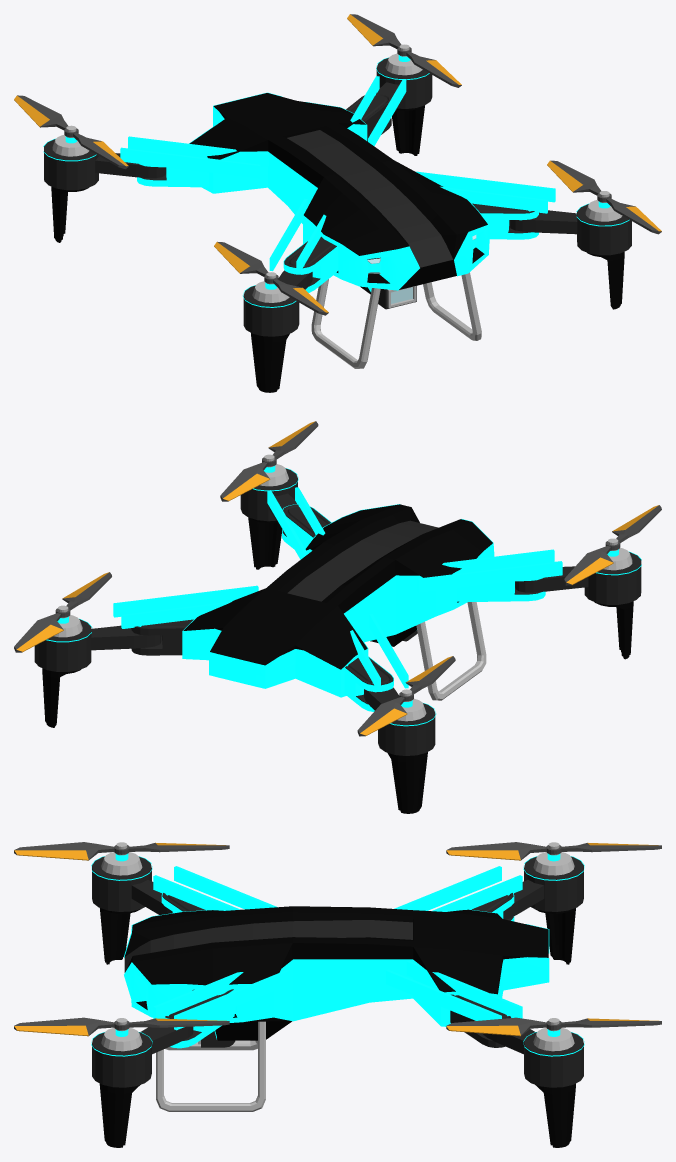
File: drone_surface_band_emissive.glb
3 views of the same model, one above another, from view 1: azimuth 30°, elevation 25°; view 2: azimuth 150°, elevation 25°; view 3: azimuth 270°, elevation 25° (orthographic). The views are drawn at different scales.
Visible parts, largest first — view 1: Body, LED_SURFACE_BAND, LED_ARM_BR_R, LED_ARM_FL_R, Rotor_FL, Rotor_BL, Rotor_BR, Rotor_FR, LED_ARM_BR_L, LED_ARM_FL_L, LED_ARM_FR_L, LED_ARM_BL_L (+1 smaller); view 2: Body, LED_SURFACE_BAND, LED_ARM_FR_L, LED_ARM_BL_L, Rotor_FR, Rotor_BL, Rotor_FL, Rotor_BR, LED_ARM_FR_R, LED_ARM_BL_R, LED_ARM_BR_R, LED_ARM_FL_R; view 3: Body, LED_SURFACE_BAND, Rotor_FL, Rotor_BL, Rotor_FR, Rotor_BR, LED_ARM_FL_R, LED_ARM_BL_L, LED_ARM_BR_R, LED_ARM_BL_R, LED_ARM_FR_L, LED_ARM_FL_L (+2 smaller).
Part boxes in pixels (x1,y1,x2,y2): Body: (44, 44, 631, 392); LED_SURFACE_BAND: (43, 55, 629, 307); LED_ARM_BR_R: (120, 147, 260, 178); LED_ARM_FL_R: (416, 171, 555, 202); Rotor_FL: (547, 160, 661, 234); Rotor_BL: (347, 14, 461, 87); Rotor_BR: (14, 95, 128, 169); Rotor_FR: (214, 241, 328, 315); LED_ARM_BR_L: (128, 136, 268, 167); LED_ARM_FL_L: (440, 186, 547, 213); LED_ARM_FR_L: (269, 198, 307, 271); LED_ARM_BL_L: (368, 79, 406, 146); Body: (34, 454, 641, 813); LED_SURFACE_BAND: (46, 465, 641, 726); LED_ARM_FR_L: (417, 561, 562, 592); LED_ARM_BL_L: (113, 585, 258, 617); Rotor_FR: (564, 505, 661, 585); Rotor_BL: (14, 572, 111, 652); Rotor_FL: (220, 421, 318, 501); Rotor_BR: (357, 656, 455, 736); LED_ARM_FR_R: (442, 549, 554, 572); LED_ARM_BL_R: (121, 601, 232, 628); LED_ARM_BR_R: (369, 613, 408, 688); LED_ARM_FL_R: (267, 490, 306, 559); Body: (92, 842, 583, 1147); LED_SURFACE_BAND: (91, 853, 584, 1056); Rotor_FL: (14, 1017, 229, 1036); Rotor_BL: (446, 1017, 661, 1036); Rotor_FR: (14, 842, 229, 860); Rotor_BR: (446, 842, 661, 860); LED_ARM_FL_R: (174, 969, 289, 1030); LED_ARM_BL_L: (386, 969, 501, 1020); LED_ARM_BR_R: (394, 866, 501, 910); LED_ARM_BL_R: (406, 960, 522, 1018); LED_ARM_FR_L: (174, 866, 277, 909); LED_ARM_FL_L: (153, 972, 243, 1018).
Size of the model in its own units: 0.5756 by 0.2076 by 0.7813.
Materials: 2 (1 with a texture image).
